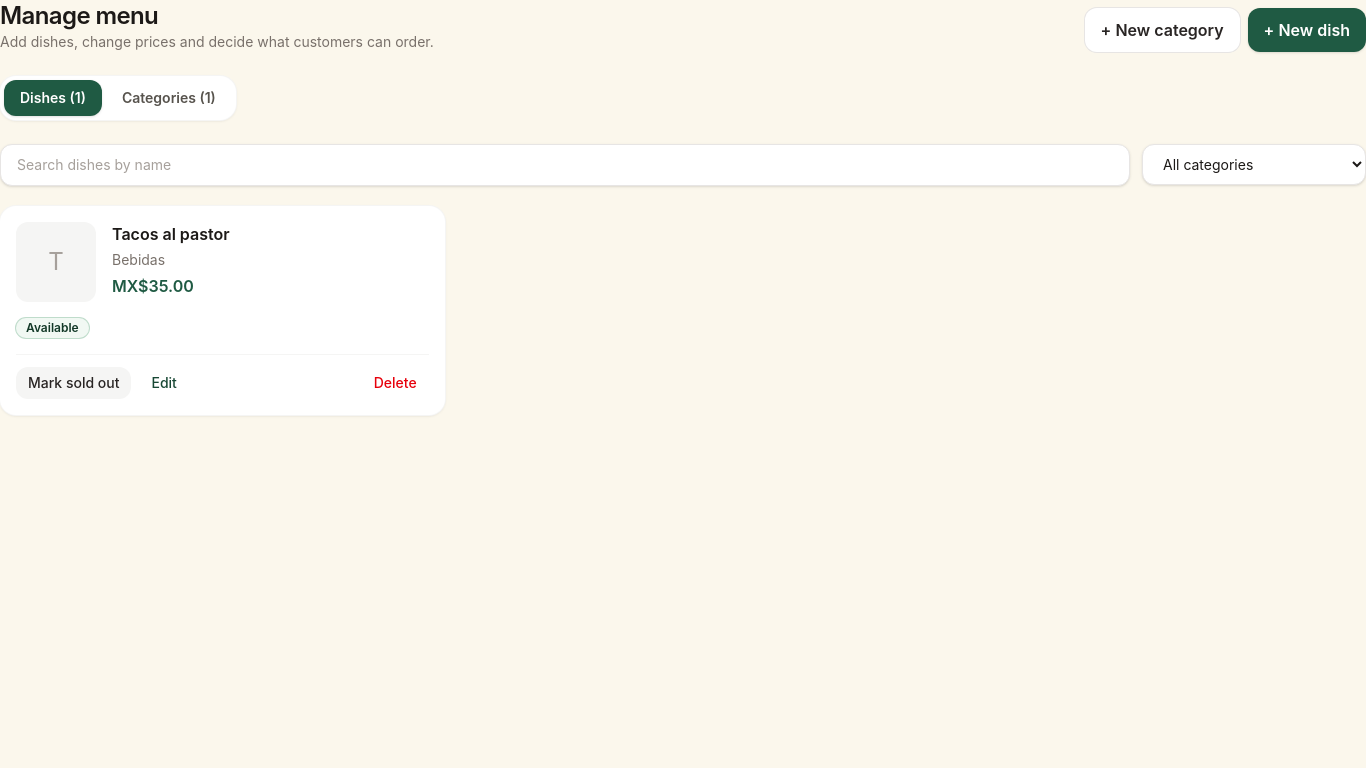
Scenario: AdminMenuPage › creates a dish from the New dish pop-up with the price in cents
Click the button "+ New dish" at (1307, 30), box left=1248, top=8, right=1365, bottom=52
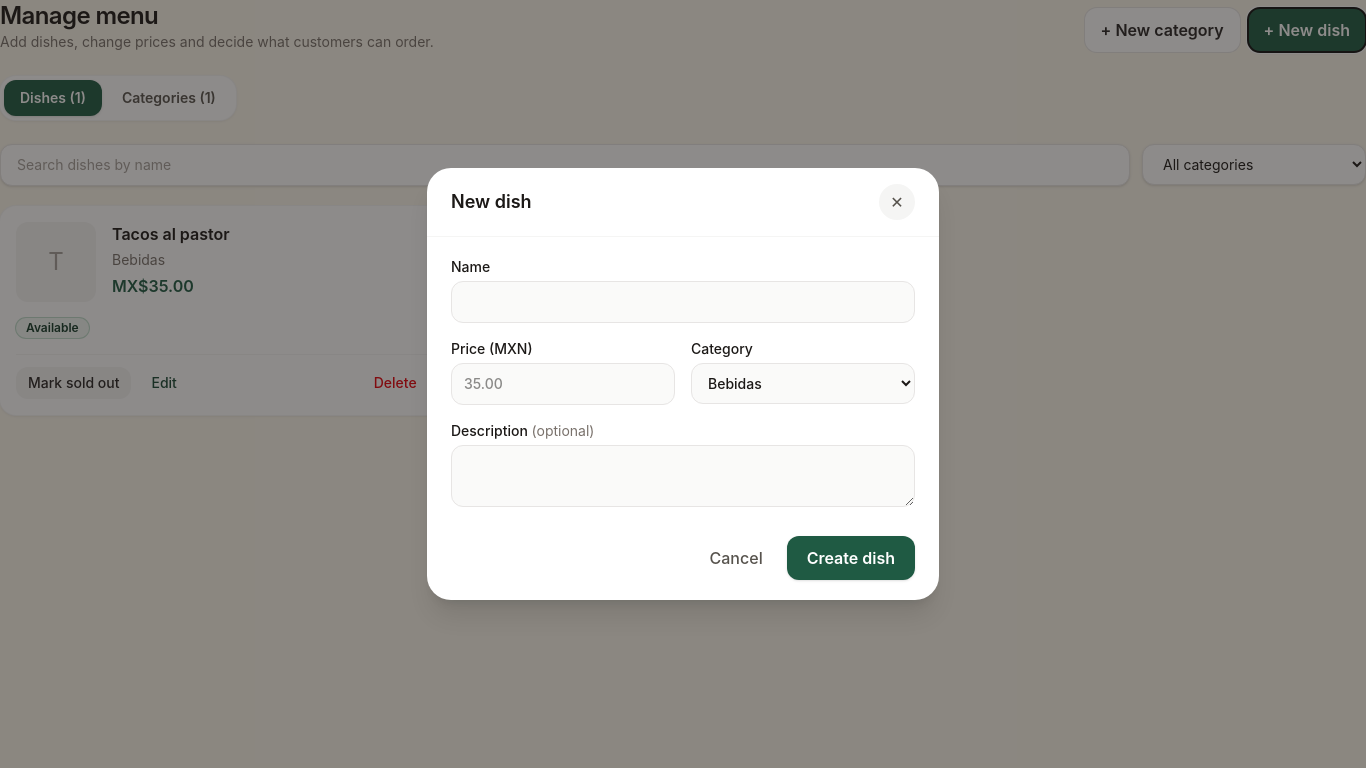
Type "Quesadilla" into the field labelled "Name" at (683, 302), box left=451, top=281, right=915, bottom=323
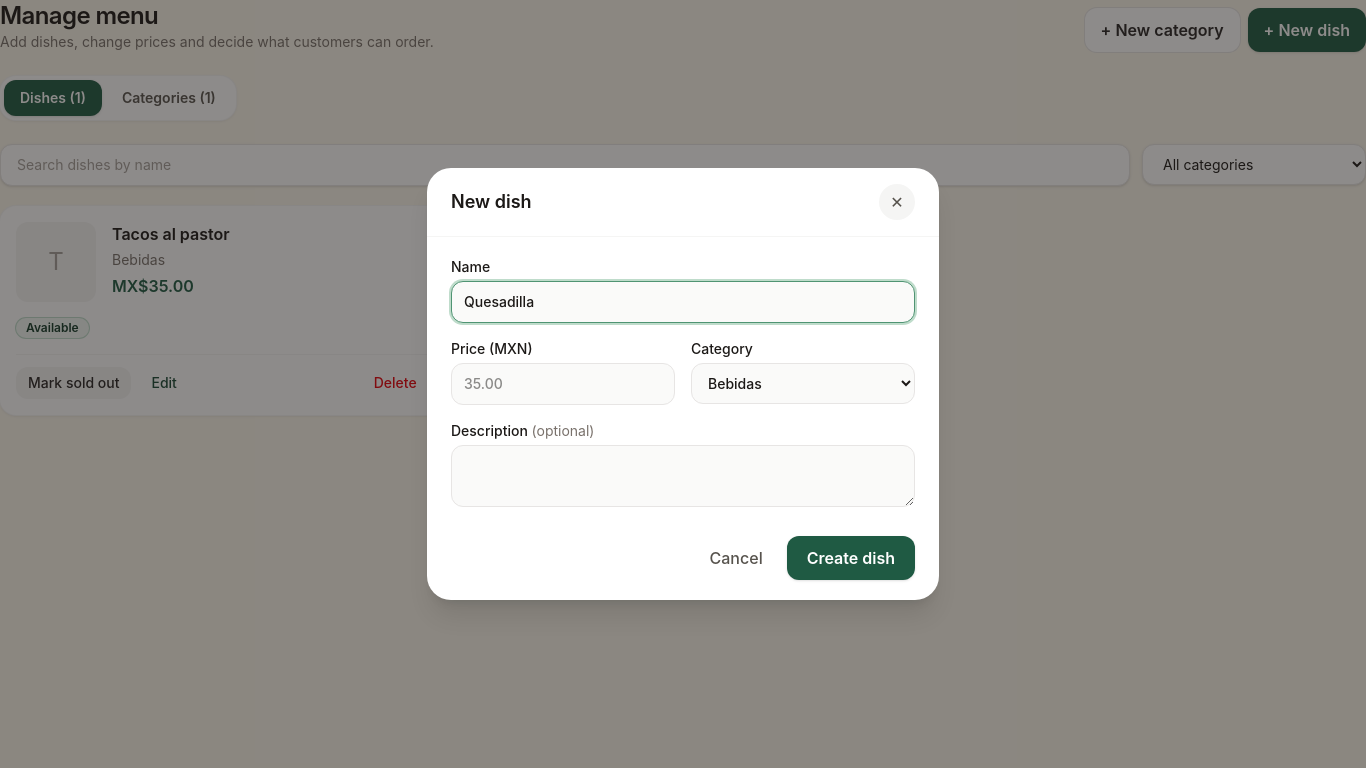
Type "42.50" into the field labelled "Price (MXN)" at (563, 384), box left=451, top=363, right=675, bottom=405
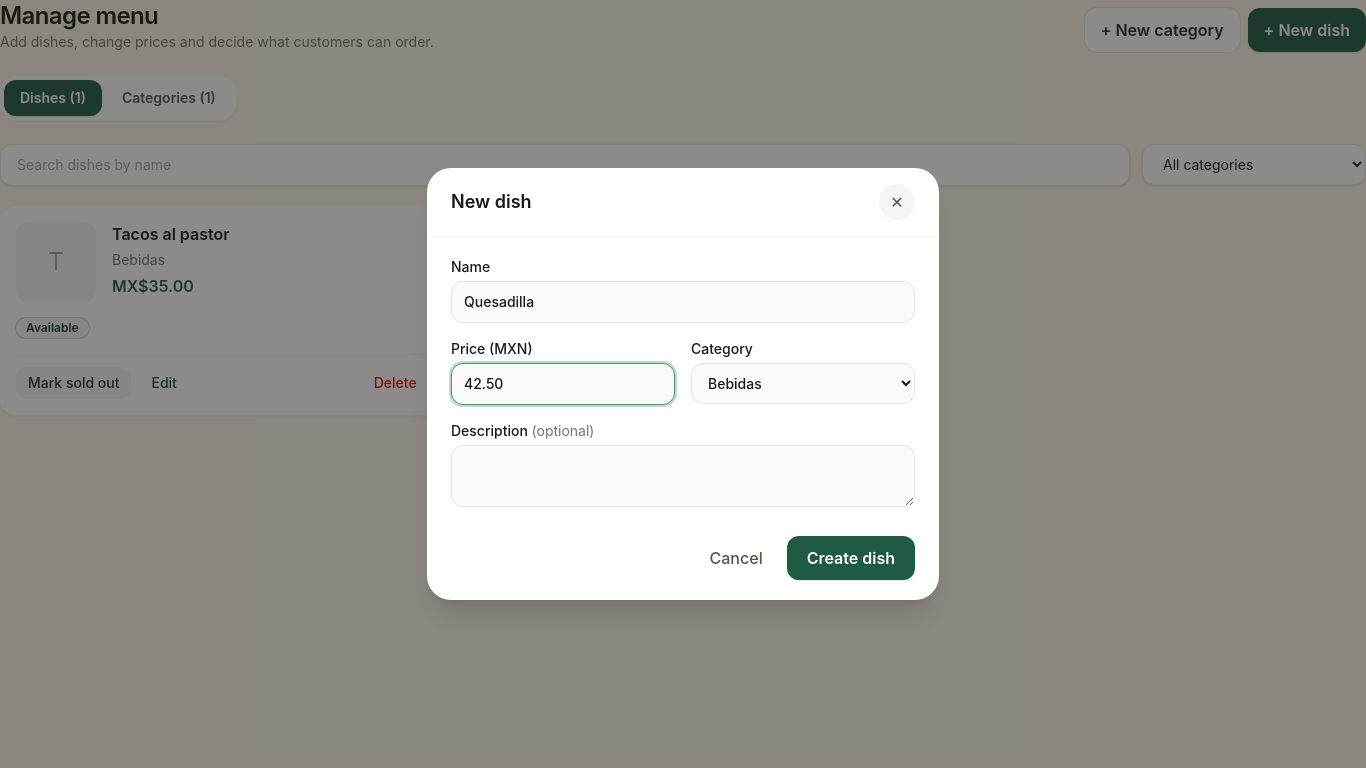
Click the button "Create dish" at (851, 558), box left=787, top=536, right=915, bottom=580
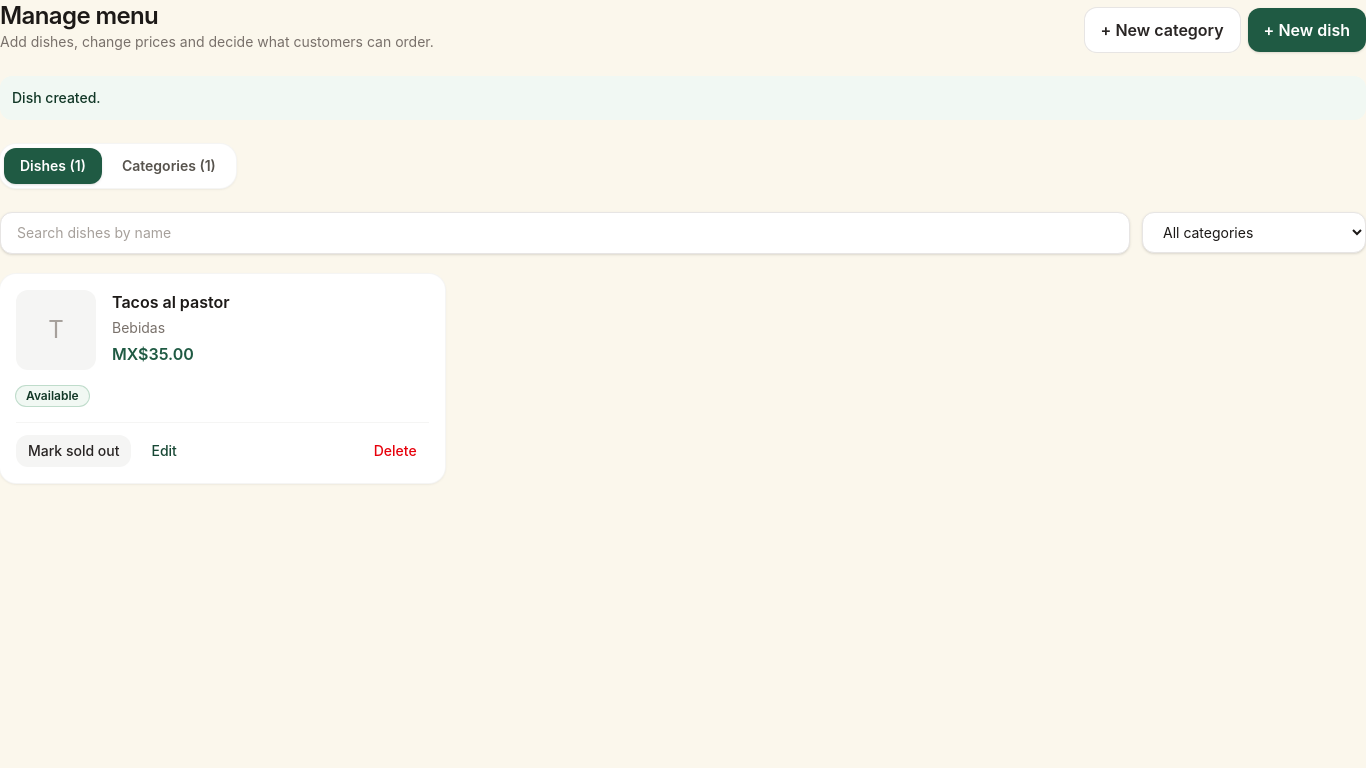
Check: the message reads "Dish created.", box left=12, top=89, right=101, bottom=106
